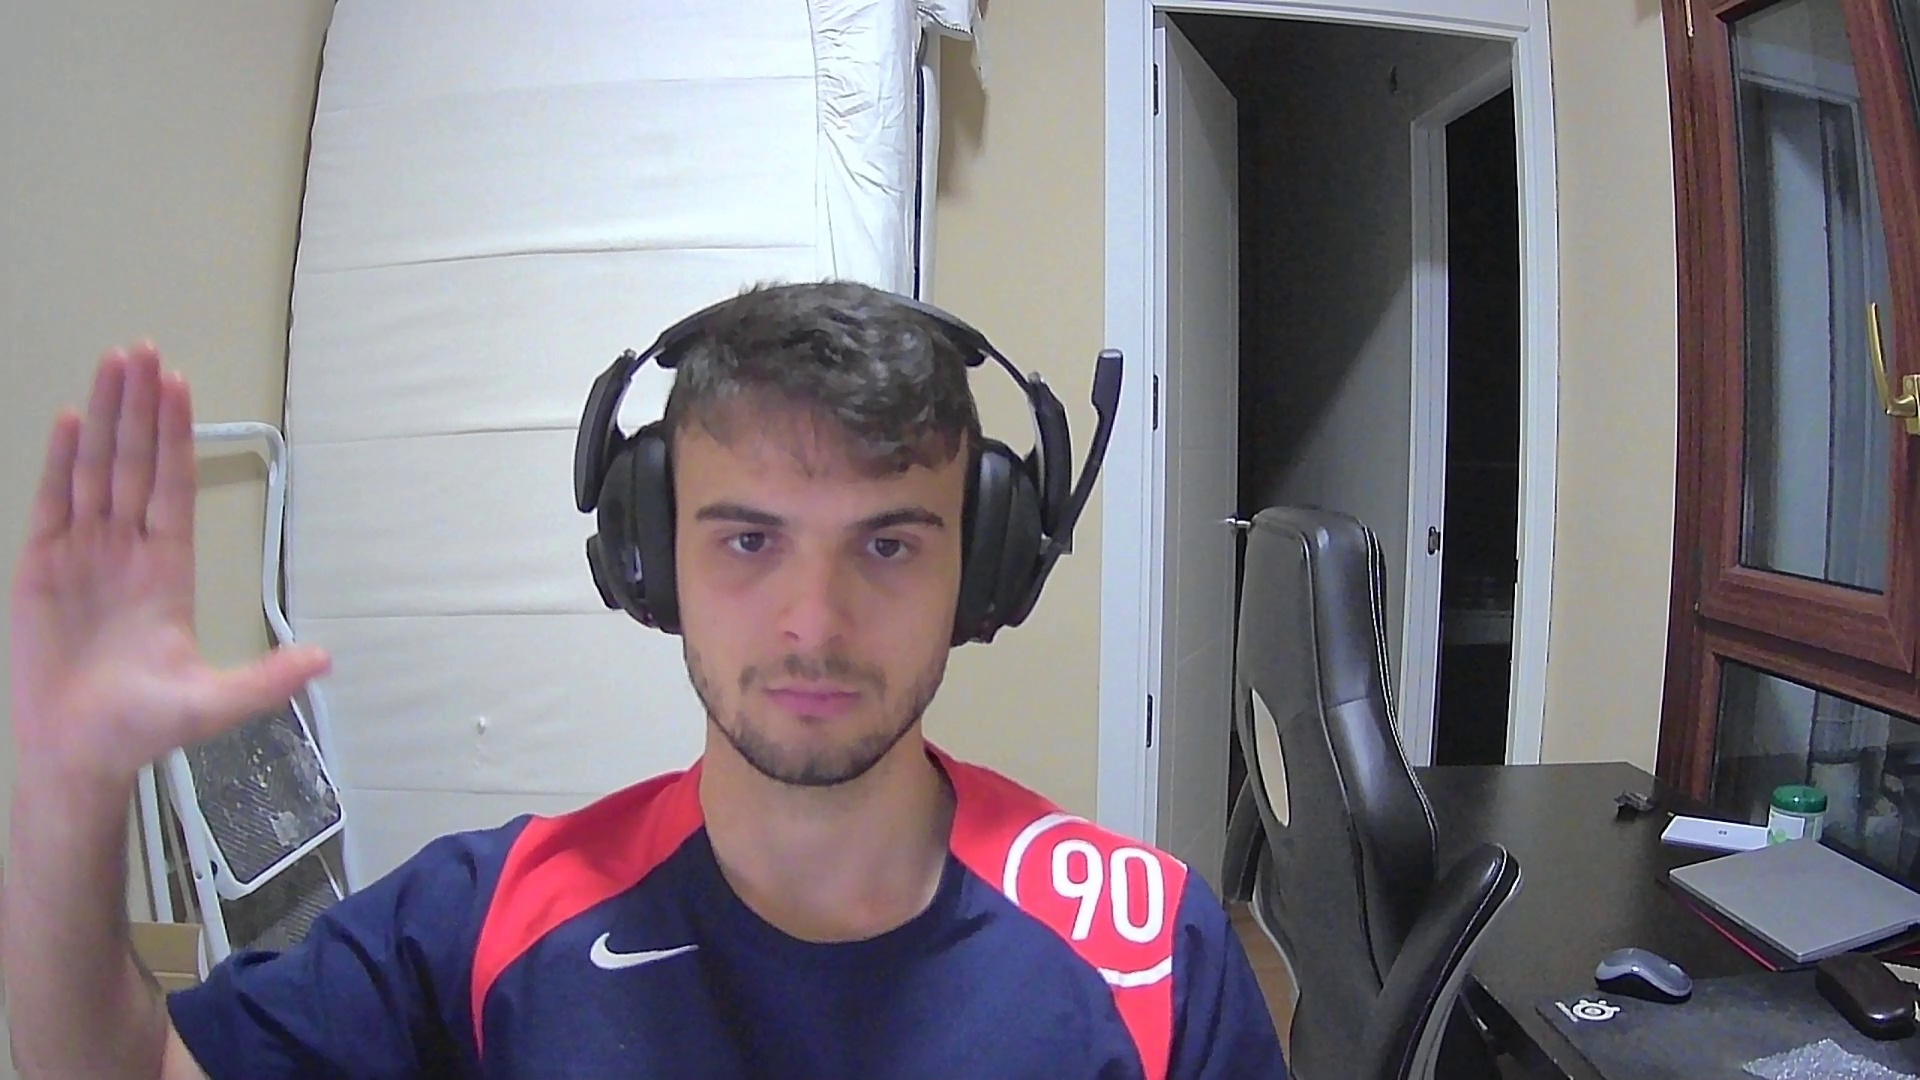Palm: (5, 334, 334, 754)
